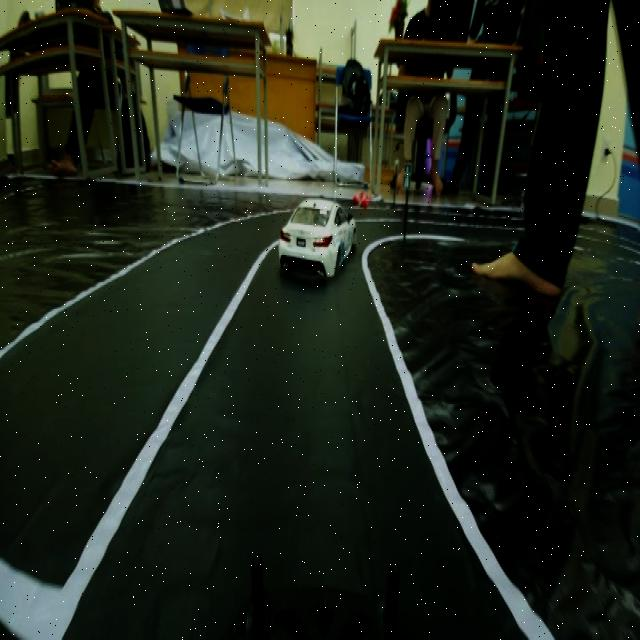car: (276, 187, 358, 290)
